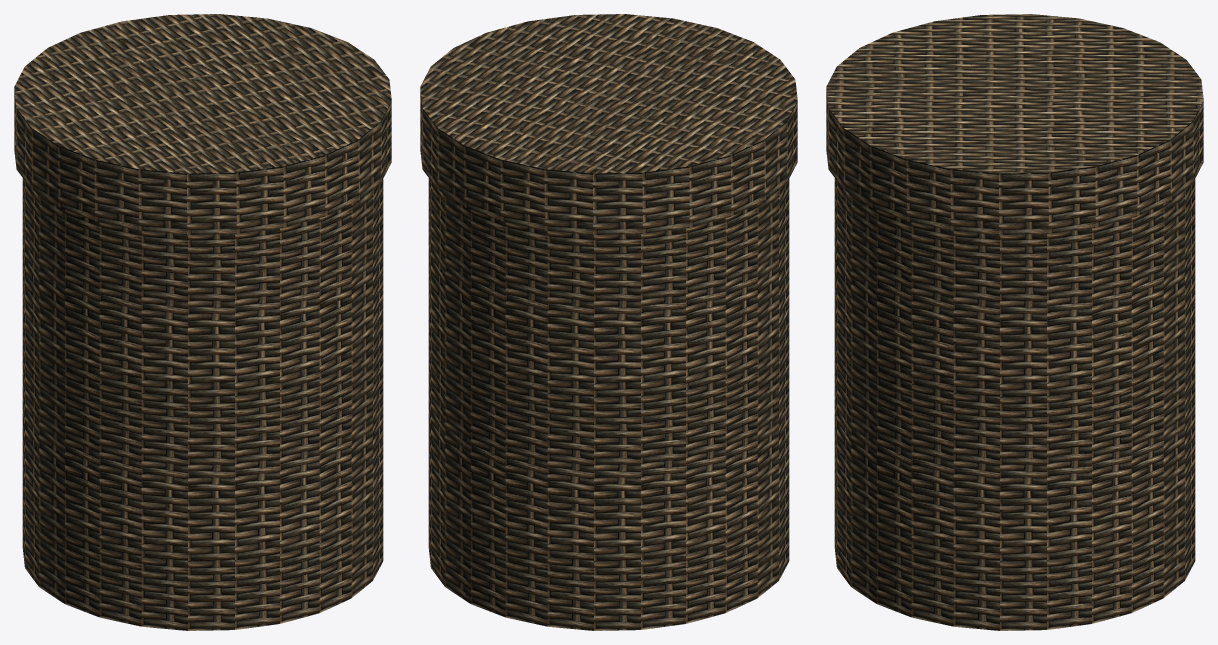
3 views of the same model, side by side, from view 1: azimuth 30°, elevation 25°; view 2: azimuth 150°, elevation 25°; view 3: azimuth 270°, elevation 25° (orthographic).
Visible parts, largest first — view 1: mesh1_mesh1-geometry; view 2: mesh1_mesh1-geometry; view 3: mesh1_mesh1-geometry.
Part boxes in pixels (x1=…): mesh1_mesh1-geometry: x1=14, y1=14, x2=391, y2=630; mesh1_mesh1-geometry: x1=420, y1=14, x2=797, y2=630; mesh1_mesh1-geometry: x1=826, y1=14, x2=1203, y2=630.
Size of the model in its own units: 0.512 by 0.6897 by 0.512.
Materials: 2 (1 with a texture image).
